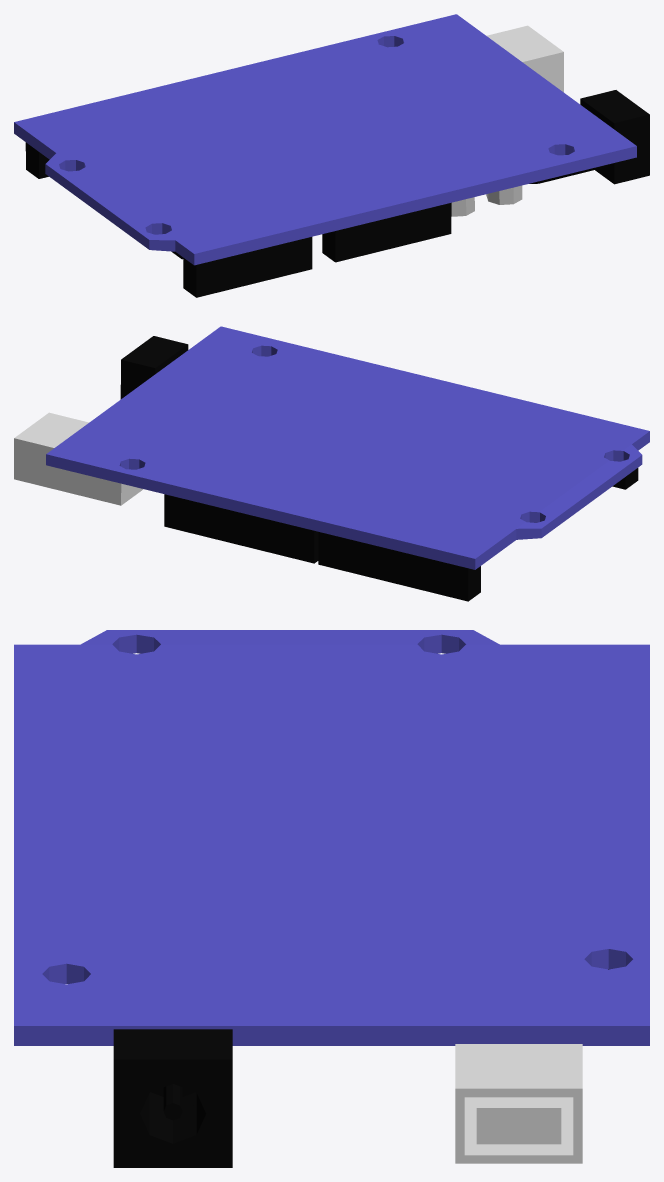
File: arduino.fbx
3 renders of one model, top to bottom at view 1: azimuth 30°, elevation 25°; view 2: azimuth 150°, elevation 25°; view 3: azimuth 270°, elevation 25°, orthographic. The views are drawn at different scales.
Visible parts, largest first — view 1: Arduino, Power, USB, Input/output 2, Input/output 1, Input/output 2.005, Input/output 2.004, Input/output 2.003, Input/output 2.002, Input/output 2.001, Input/output 1.005, Input/output 1.004 (+4 smaller); view 2: Arduino, USB, Power, Input/output 4.001, Input/output 3.001, Input/output 4.005, Input/output 3.005, Input/output 4.004, Input/output 4.002, Input/output 3.004, Input/output 4.006, Input/output 4.003 (+7 smaller); view 3: Arduino, Power, USB.
Part boxes in pixels (x1,y1,x2,y2): Arduino: (14,14,636,265); Power: (529,90,649,184); USB: (486,25,563,92); Input/output 2: (183,258,215,297); Input/output 1: (322,226,354,262); Input/output 2.005: (215,255,234,292); Input/output 2.004: (235,251,254,288); Input/output 2.003: (254,246,273,283); Input/output 2.002: (273,241,292,278); Input/output 2.001: (293,237,312,273); Input/output 1.005: (354,221,373,257); Input/output 1.004: (374,217,393,252); Arduino: (46,326,649,569); USB: (14,412,143,505); Power: (120,336,188,399); Input/output 4.001: (449,564,480,601); Input/output 3.001: (295,526,318,563); Input/output 4.005: (374,545,393,582); Input/output 3.005: (220,508,239,544); Input/output 4.004: (393,550,412,587); Input/output 4.002: (431,559,449,596); Input/output 3.004: (239,512,258,549); Input/output 4.006: (356,541,374,578); Input/output 4.003: (412,554,430,592); Arduino: (14,630,649,1045); Power: (113,1029,232,1167); USB: (455,1044,582,1163).
Size of the model in its own units: 743 by 84.71 by 452.
